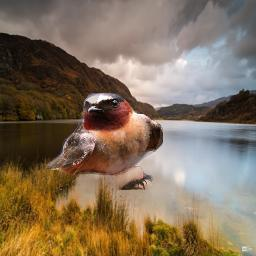Swallow: (46, 93, 163, 190)
